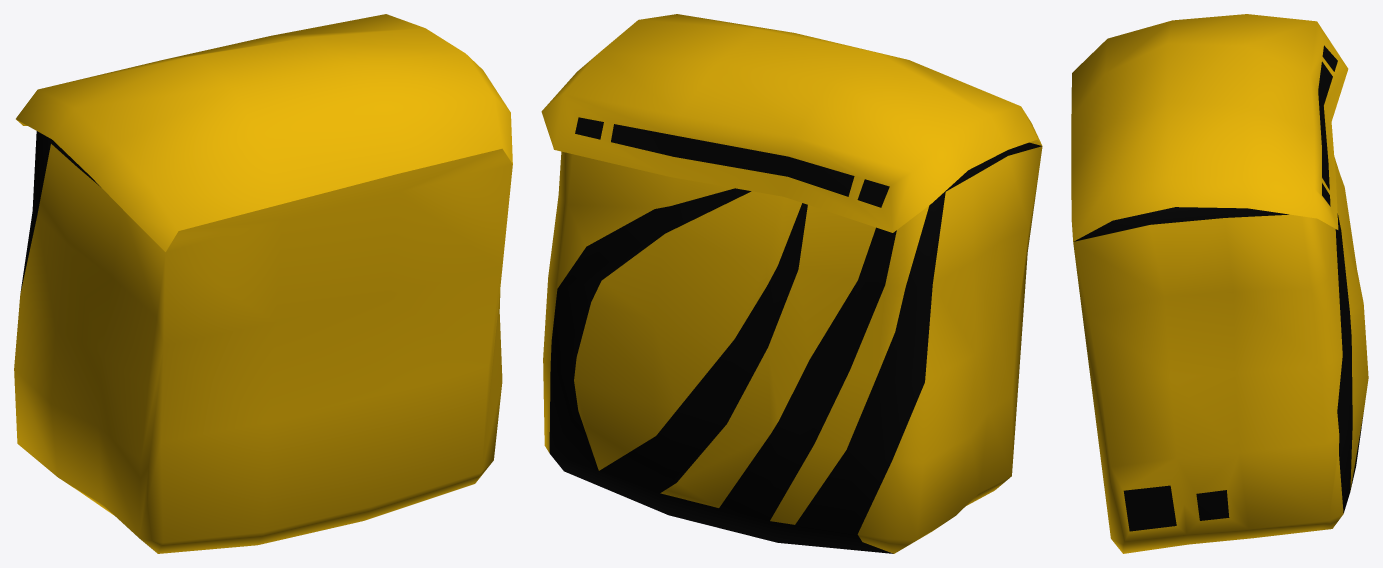
File: DeliveryBag.fbx
3 views of the same model, side by side, from view 1: azimuth 30°, elevation 25°; view 2: azimuth 150°, elevation 25°; view 3: azimuth 270°, elevation 25° (orthographic). The views are drawn at different scales.
Parts seen in each view (by area): view 1: Delivery; view 2: Delivery; view 3: Delivery.
Part boxes in pixels (box(x1,y1,x2,y2)): Delivery: box(14, 14, 512, 553); Delivery: box(541, 14, 1042, 553); Delivery: box(1071, 14, 1368, 553).
Size of the model in its own units: 0.5102 by 0.5496 by 0.3539.
